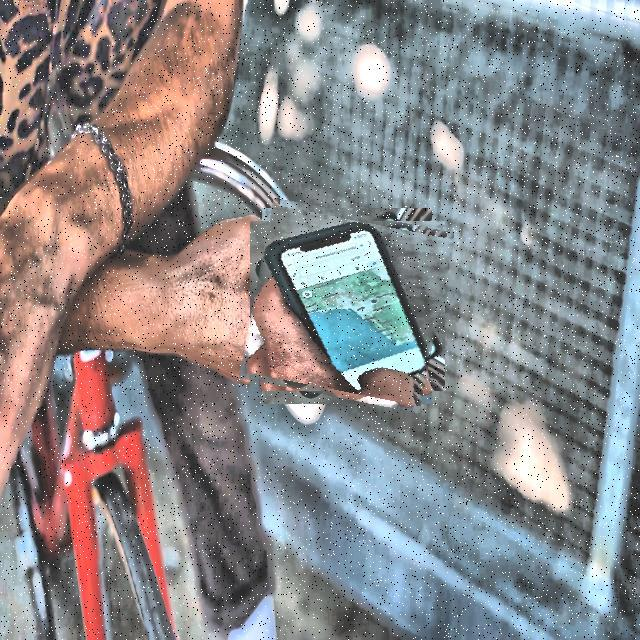Phone: (248, 207, 447, 406)
